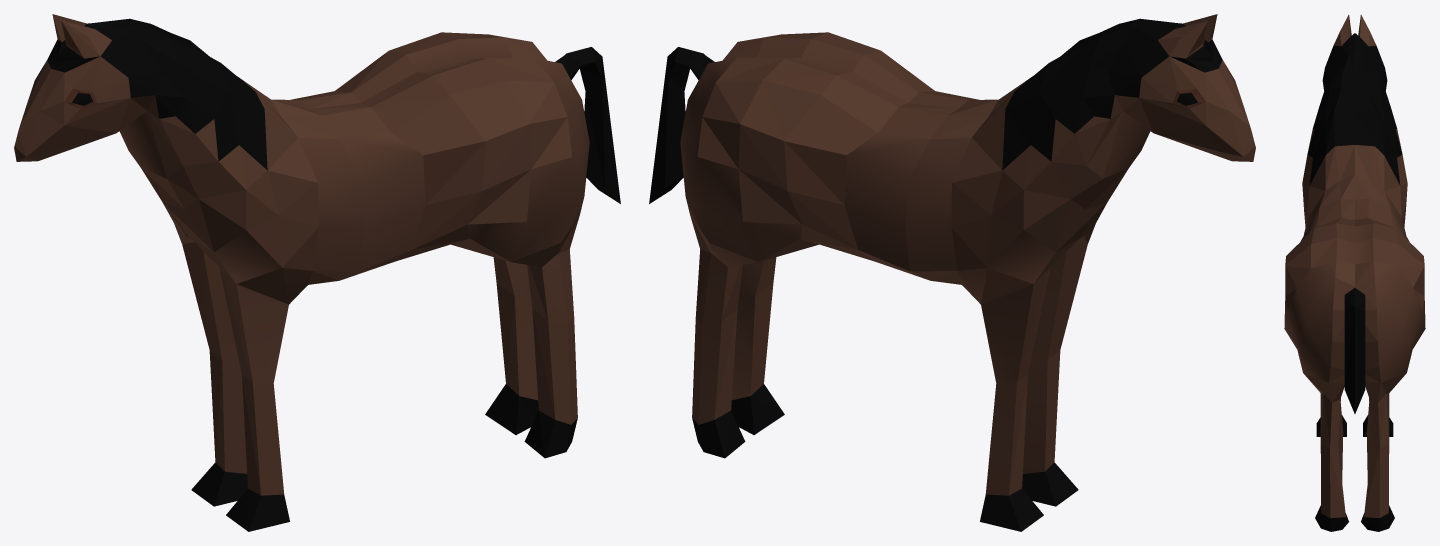
Rendered from Pferd_Boxer_jung.FBX.
3 views of the same model, side by side, from view 1: azimuth 30°, elevation 25°; view 2: azimuth 150°, elevation 25°; view 3: azimuth 270°, elevation 25° (orthographic). The views are drawn at different scales.
Visible parts, largest first — view 1: Body; view 2: Body; view 3: Body.
Part boxes in pixels (x1,y1,x2,y2): Body: [14, 14, 620, 531]; Body: [649, 14, 1255, 531]; Body: [1284, 14, 1425, 531].
Size of the model in its own units: 73.74 by 62.11 by 22.25.
